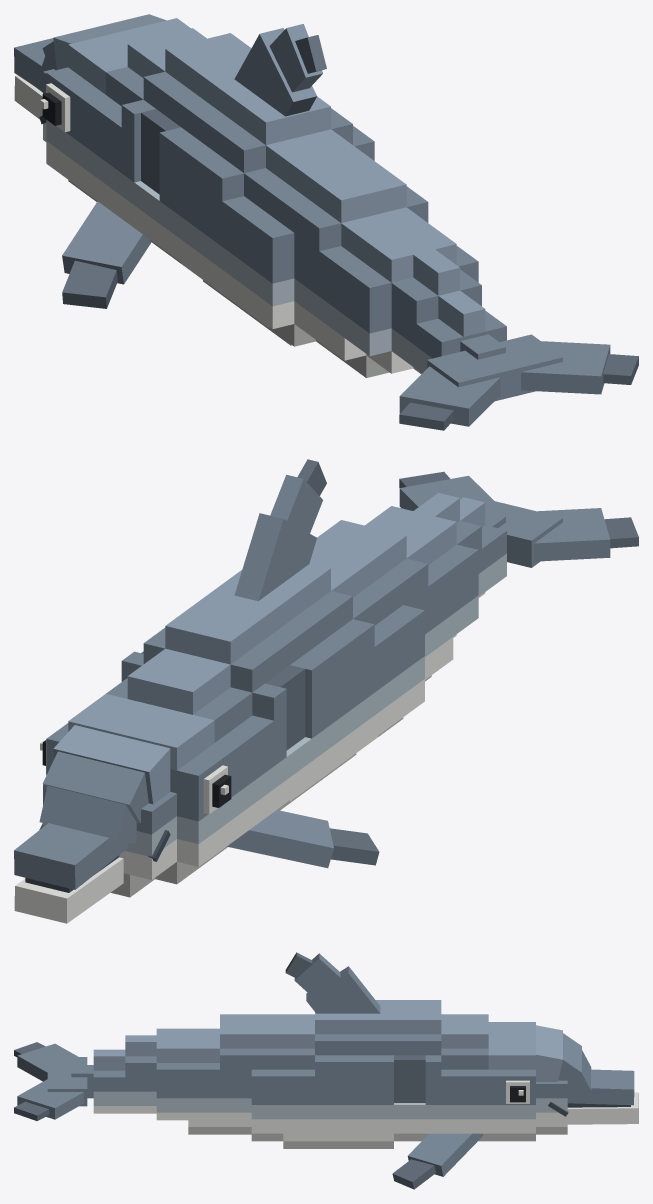
The model's file is Dolphin.obj.
3 views of the same model, one above another, from view 1: azimuth 30°, elevation 25°; view 2: azimuth 150°, elevation 25°; view 3: azimuth 270°, elevation 25° (orthographic). The views are drawn at different scales.
Visible parts, largest first — view 1: S3, S1, Fluke, Head, S2, S5, S6, S8, S4, S7, S9, S10; view 2: Head, S3, S1, S2, Fluke, S5, S8, S4, S6, S7, S10, S9; view 3: S3, Head, S1, S2, S4, Fluke, S5, S6, S7, S8, S10, S9.
Part boxes in pixels (x1,y1,x2,y2): S3: (159, 24, 374, 327); S1: (62, 28, 206, 308); Fluke: (399, 334, 638, 430); Head: (14, 14, 190, 201); S2: (121, 33, 251, 263); S5: (247, 148, 380, 346); S6: (294, 166, 428, 359); S8: (344, 225, 478, 373); S4: (222, 129, 355, 345); S7: (319, 207, 430, 377); S9: (391, 249, 481, 374); S10: (416, 290, 506, 373); Head: (14, 694, 236, 923); S3: (203, 459, 374, 810); S1: (106, 648, 379, 868); S2: (121, 598, 311, 811); Fluke: (399, 471, 638, 567); S5: (310, 538, 424, 736); S8: (367, 506, 478, 637); S4: (309, 561, 399, 772); S6: (317, 520, 428, 679); S7: (365, 524, 453, 681); S10: (460, 497, 506, 597); S9: (413, 493, 481, 596); S3: (285, 952, 393, 1148); Head: (488, 1022, 638, 1141); S1: (392, 1014, 488, 1189); S2: (394, 1000, 441, 1141); S4: (283, 1014, 314, 1148); Fluke: (14, 1042, 87, 1120); S5: (251, 1014, 283, 1141); S6: (220, 1014, 251, 1134); S7: (188, 1028, 219, 1134); S8: (156, 1028, 188, 1120); S10: (71, 1049, 125, 1113); S9: (125, 1035, 156, 1113).
Size of the model in its own units: 5.83 by 5.24 by 15.82.
1 material, 1 textured.
